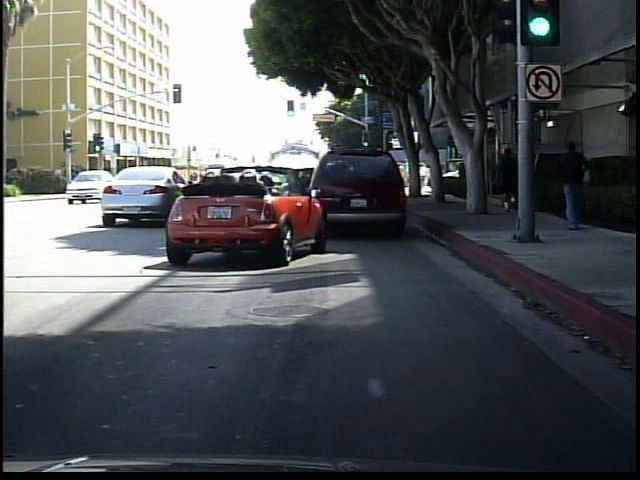person: (556, 134, 594, 235), (493, 140, 521, 217)
